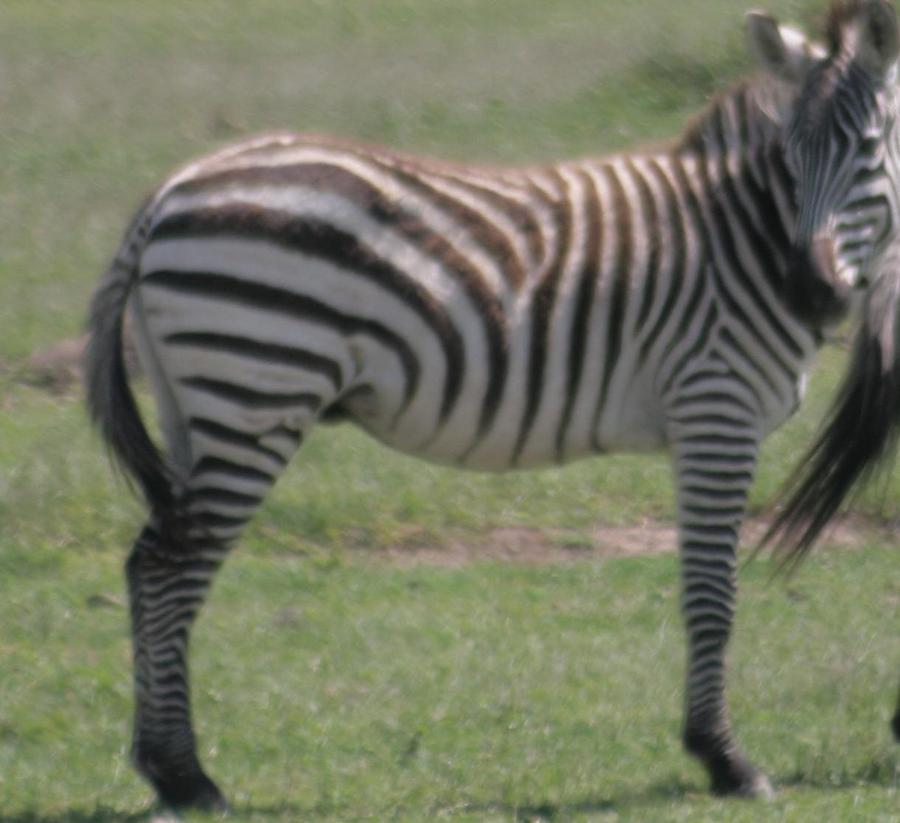zebra_plains: (111, 89, 834, 513)
